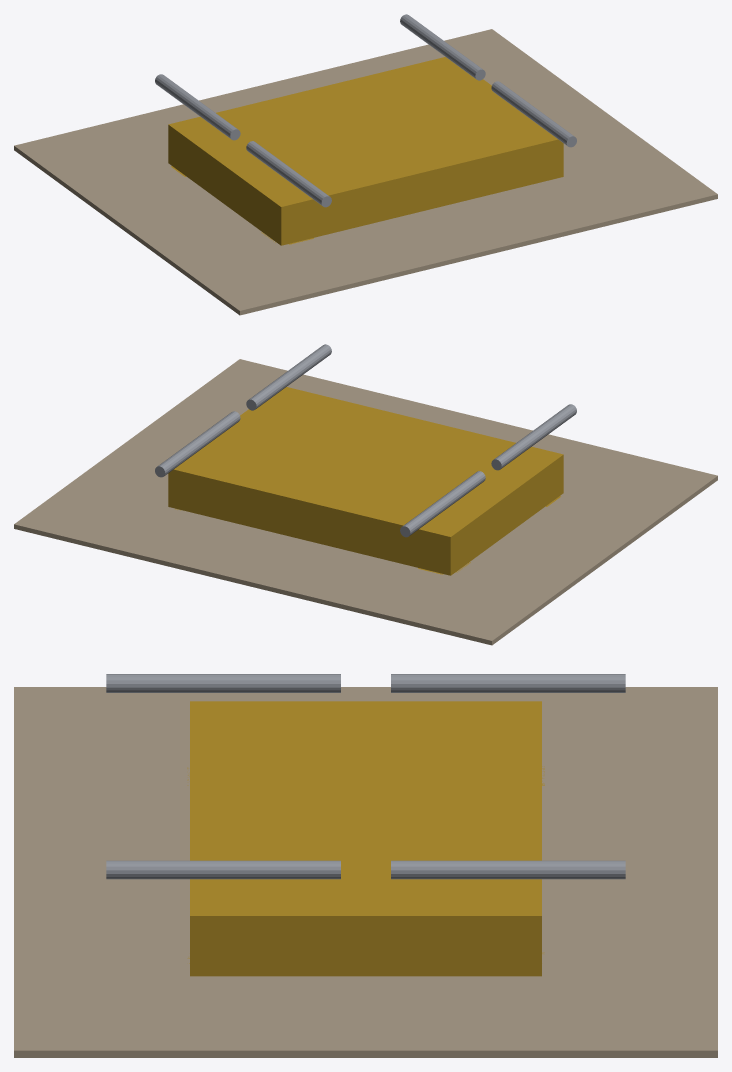
Rendered from stage_04_columns.glb.
3 renders of one model, top to bottom at view 1: azimuth 30°, elevation 25°; view 2: azimuth 150°, elevation 25°; view 3: azimuth 270°, elevation 25°, orthographic. The views are drawn at different scales.
Parts seen in each view (by area): view 1: world; view 2: world; view 3: world.
Boxes of the visible parts, left/top/right/bottom form: world: left=14, top=14, right=717, bottom=315; world: left=14, top=344, right=717, bottom=645; world: left=14, top=674, right=717, bottom=1057.
Bounding box in the file's own units: 11 × 2.22 × 9.
